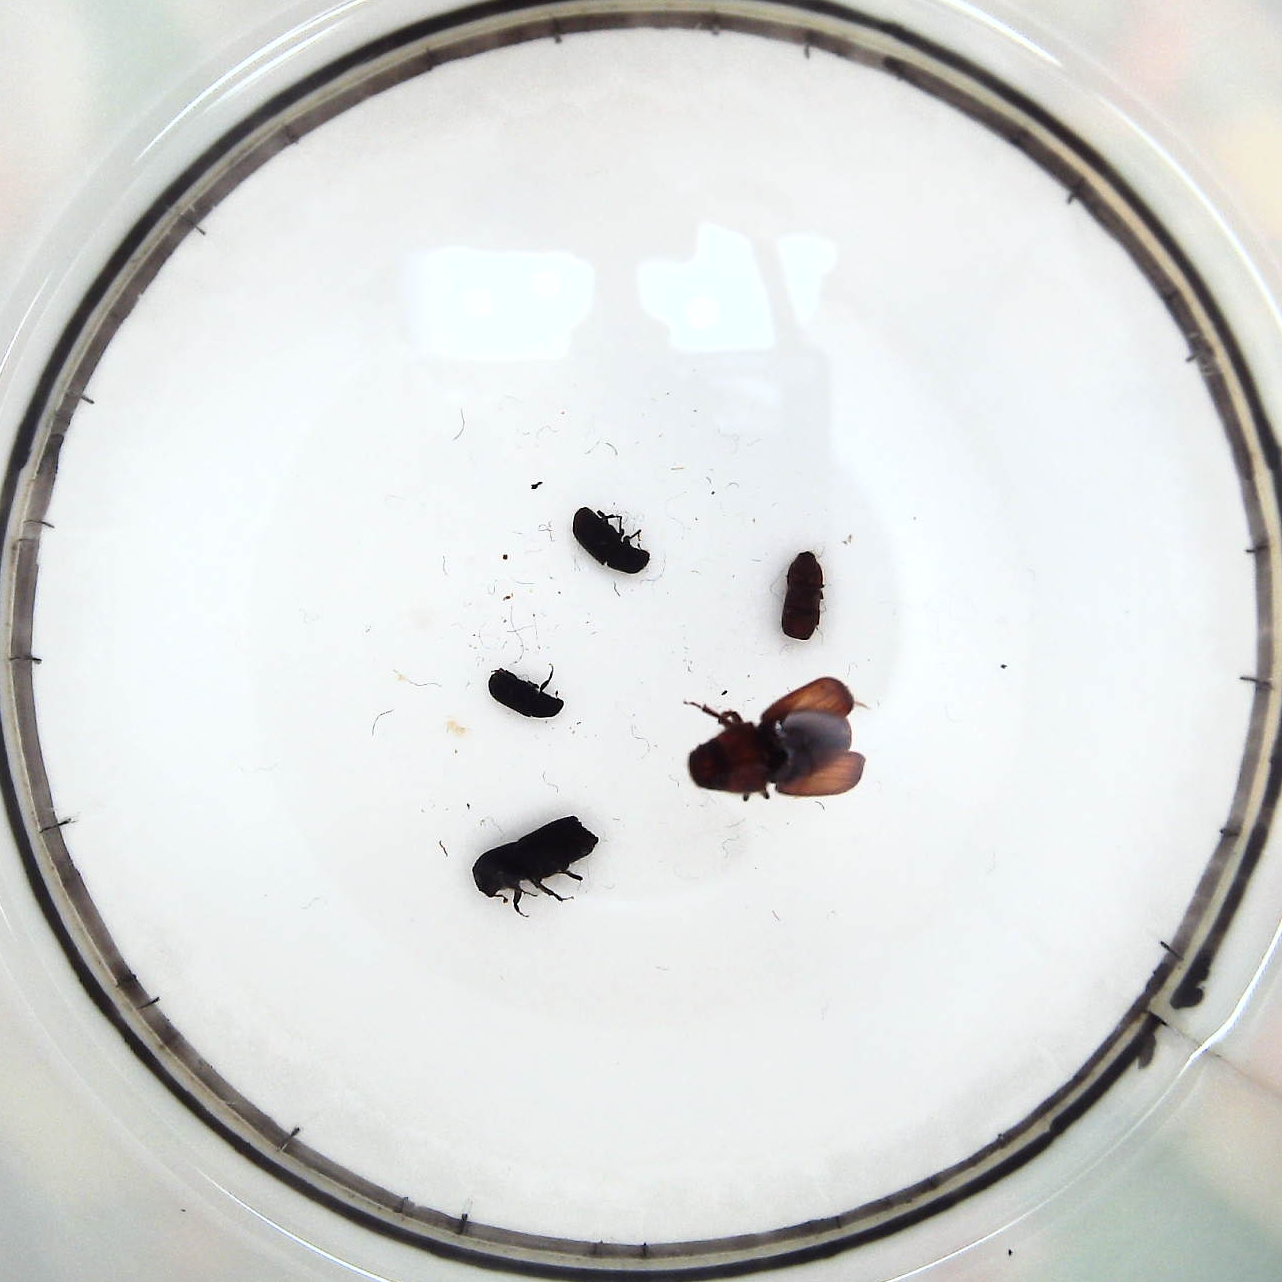Boerner: (473, 818, 598, 900)
Leconte: (682, 676, 870, 797)
Linnaeus: (782, 551, 824, 639)
armandi: (573, 502, 649, 576)
coleoptera: (487, 667, 567, 721)
